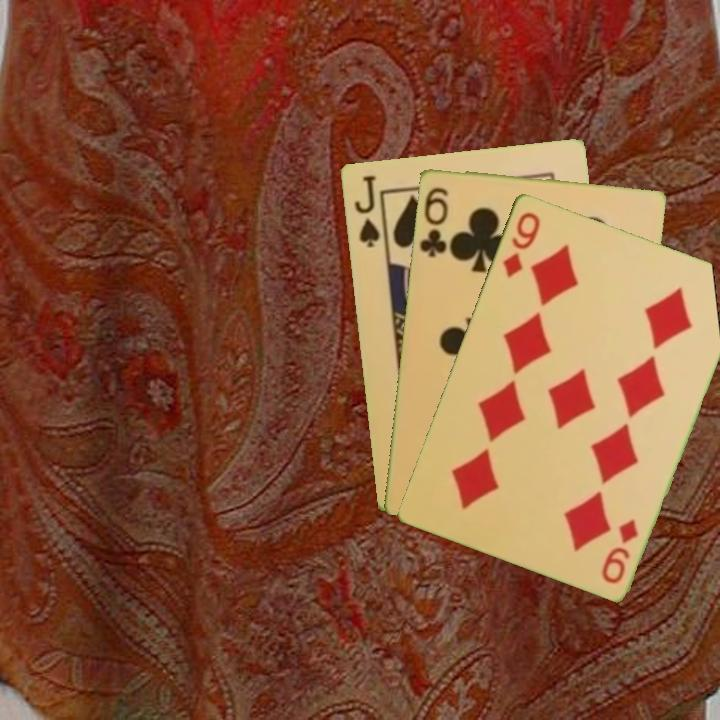6c: (415, 183, 451, 260)
9d: (498, 207, 543, 280), (597, 514, 641, 586)
Js: (350, 171, 382, 251)
